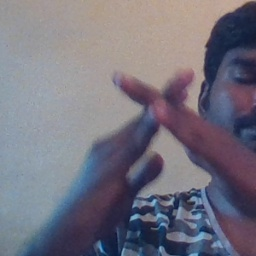W: (95, 48, 229, 191)
